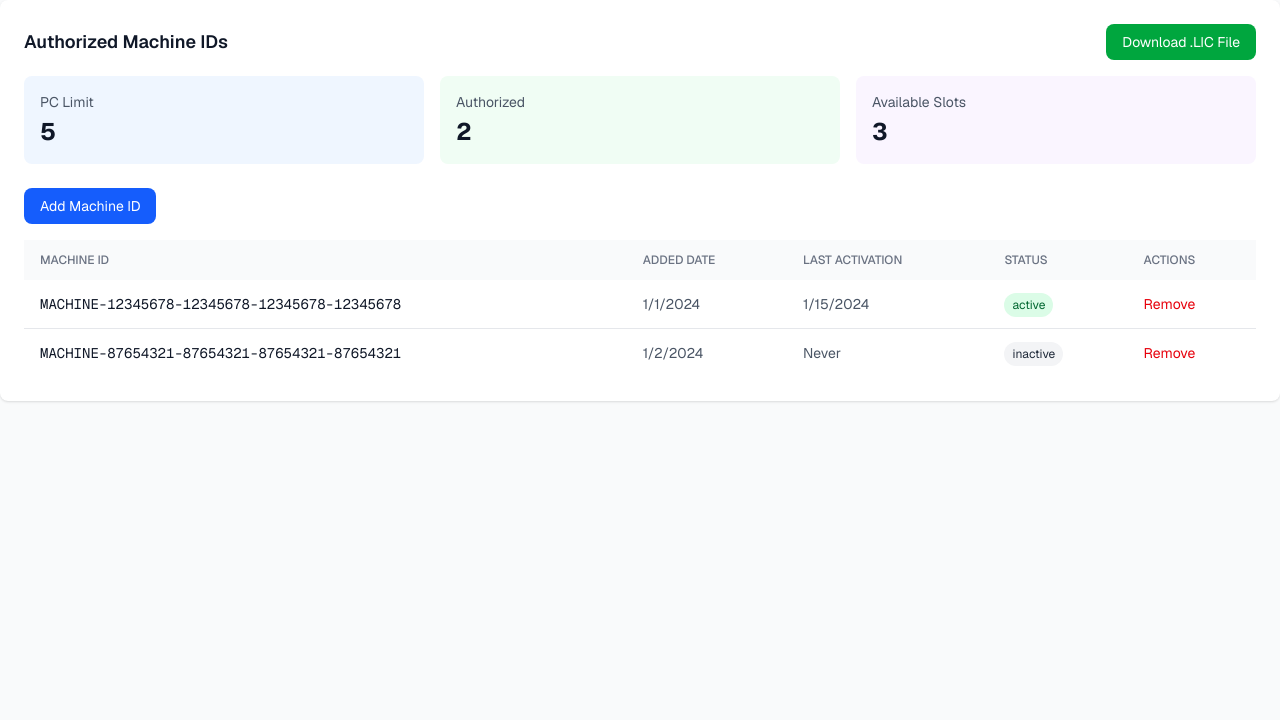
Test: MachineIdManagementPanel › opens remove machine modal
The image size is (1280, 720).
Click the button "Remove" in the row of "1/1/2024" at coordinates (1169, 304), box 1144,294 -> 1195,314
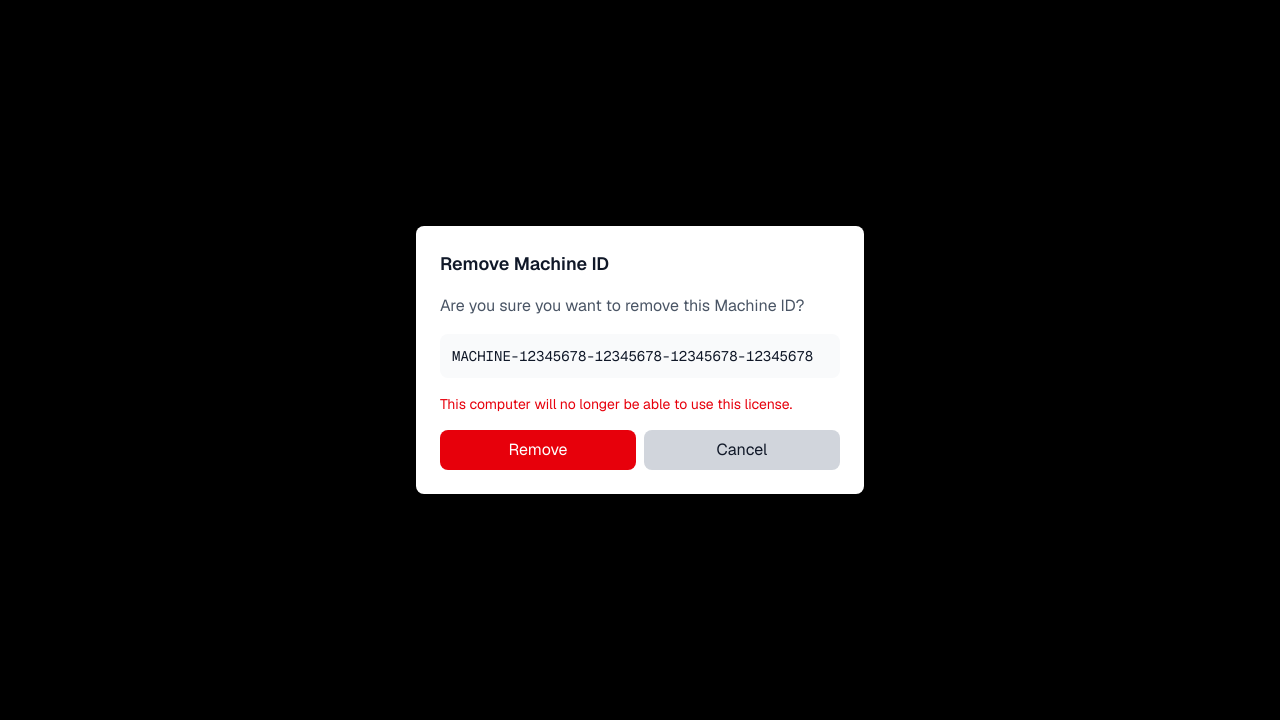
Check: the text "Are you sure you want to remove this Machine ID?" is shown, box 440,294 -> 840,318
Check: the text "This computer will no longer be able to use this license." is shown, box 440,394 -> 840,414
